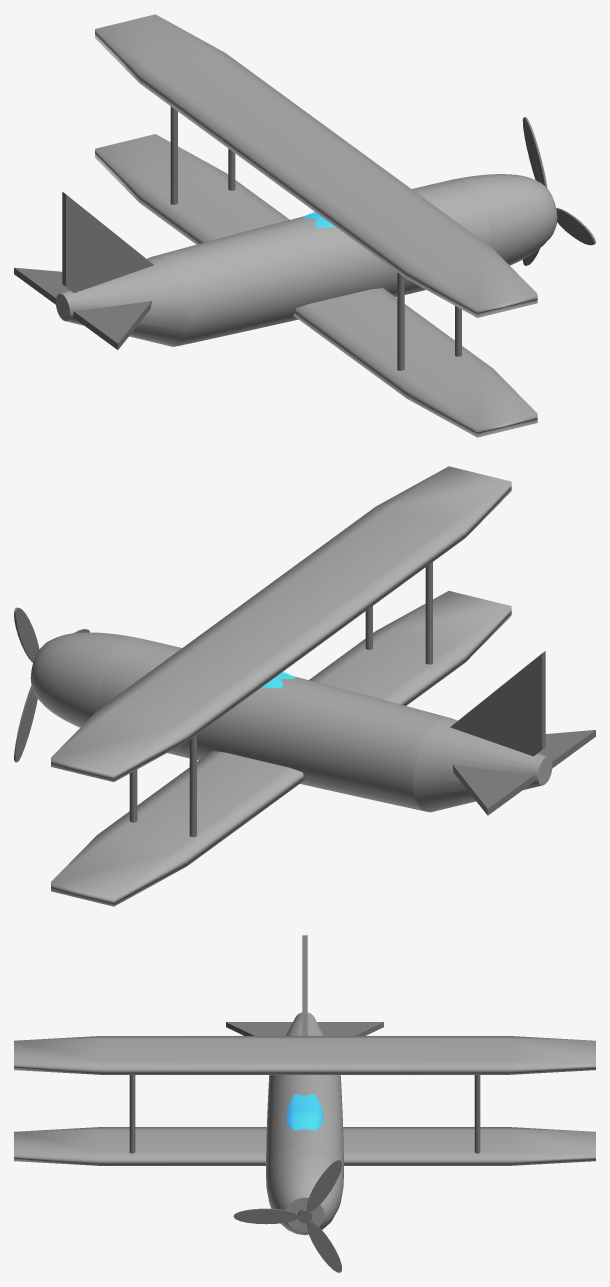
The model's file is Aereoplano.glb.
The picture shows the model from 3 angles, top to bottom: view 1: azimuth 30°, elevation 25°; view 2: azimuth 150°, elevation 25°; view 3: azimuth 270°, elevation 25°; orthographic projection. The views are drawn at different scales.
Visible parts, largest first — view 1: Root; view 2: Root; view 3: Root.
Boxes of the visible parts, x1,y1,x2,y2 form: Root: (14, 14, 595, 437); Root: (14, 466, 595, 906); Root: (14, 935, 595, 1272).
Size of the model in its own units: 7.78 by 3.16 by 10.59.
